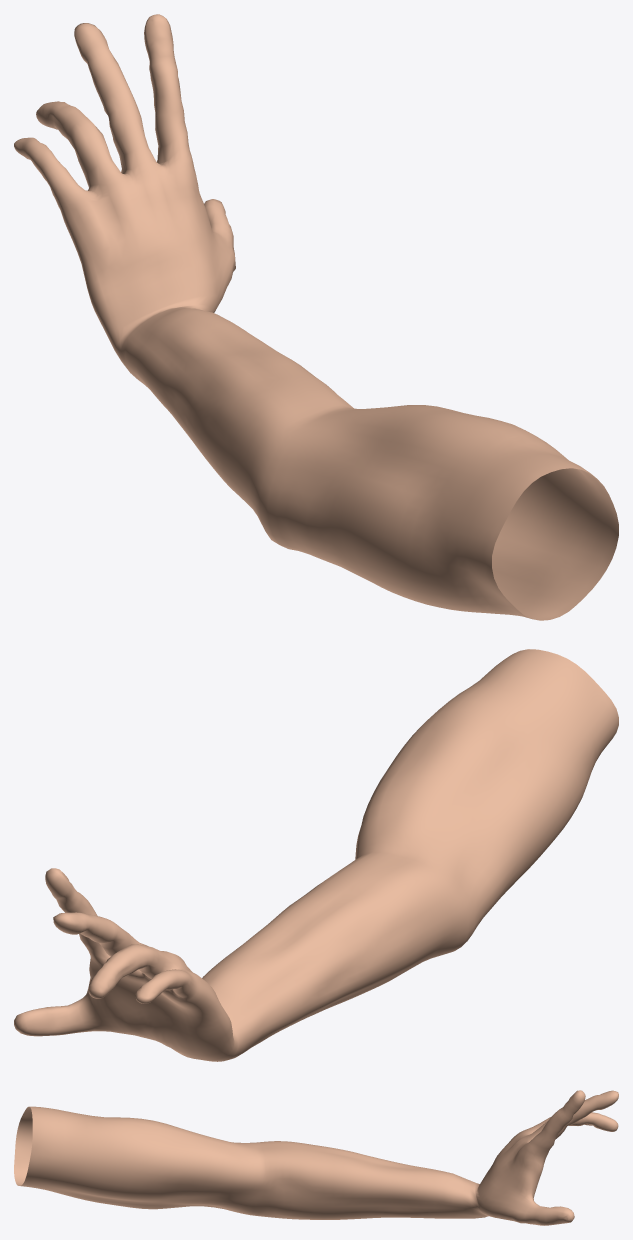
The model's file is push.obj.
3 views of the same model, one above another, from view 1: azimuth 30°, elevation 25°; view 2: azimuth 150°, elevation 25°; view 3: azimuth 270°, elevation 25° (orthographic). The views are drawn at different scales.
Parts seen in each view (by area): view 1: push; view 2: push; view 3: push.
Boxes of the visible parts, left/top/right/bottom form: push: left=14, top=14, right=618, bottom=620; push: left=14, top=649, right=618, bottom=1061; push: left=14, top=1090, right=618, bottom=1225.
Bounding box in the file's own units: 22.99 × 25.07 × 86.41.
Materials: 1 (1 with a texture image).
